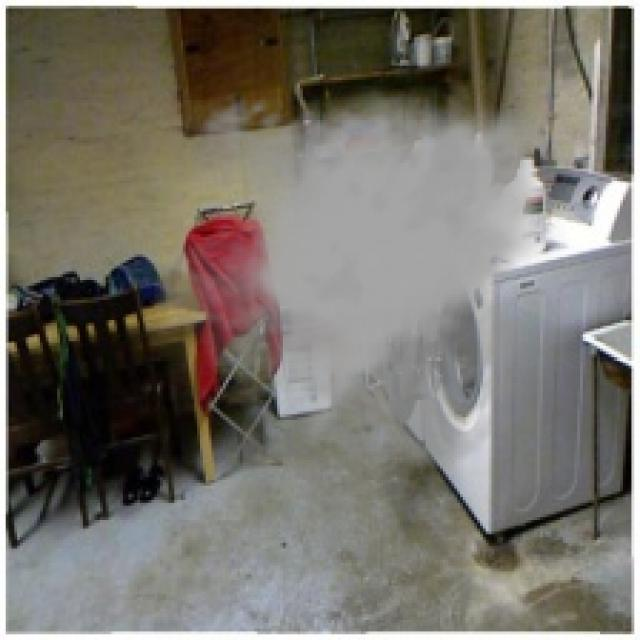smoke: (154, 86, 566, 474)
